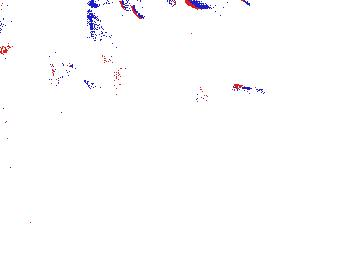X-ray fish: (11, 43, 76, 83), (132, 28, 165, 78)
red belly glassfish: (230, 79, 265, 96), (193, 84, 209, 105)
